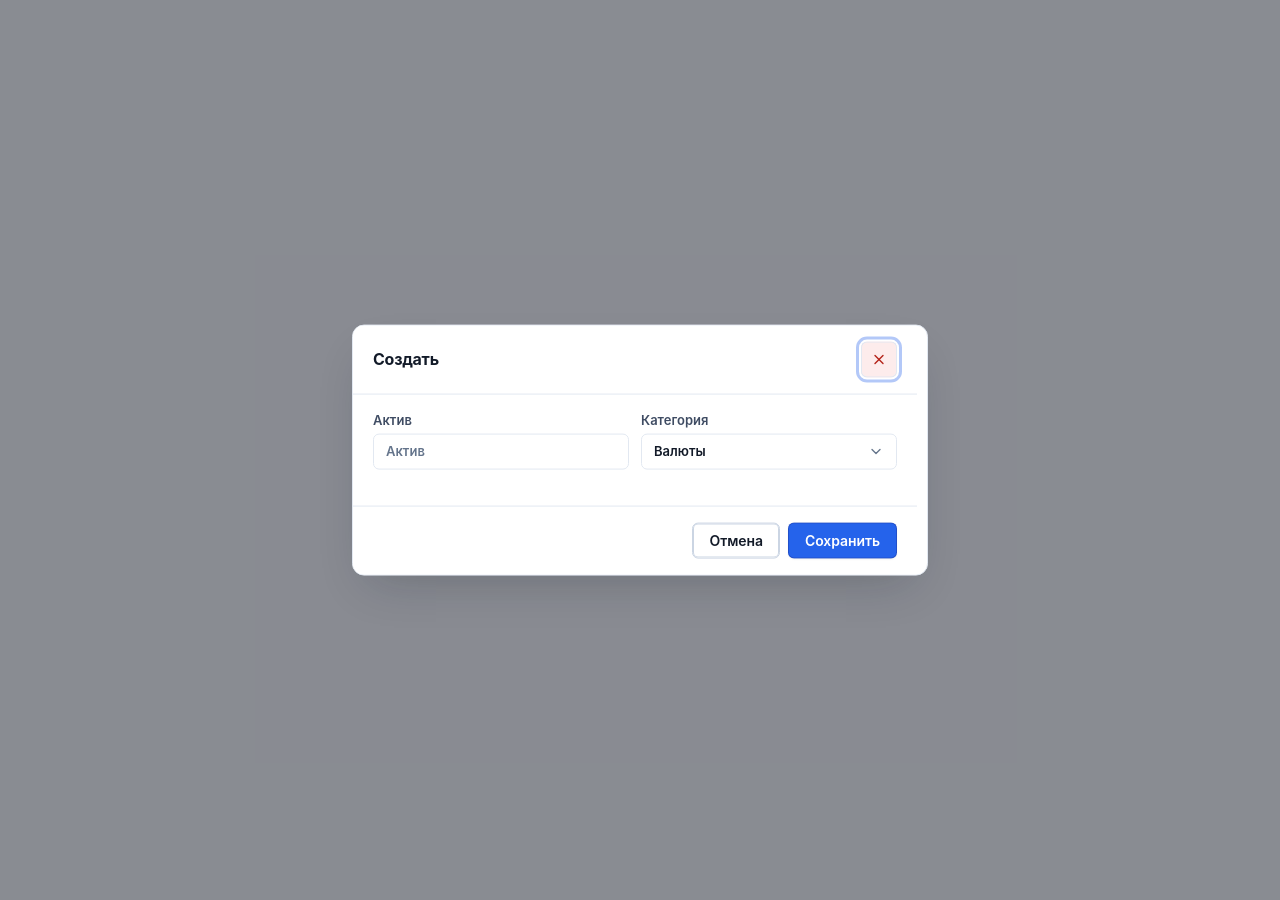
Test case: AccountAssetEditorDialogs cost profiles › shows localized asset category labels in the asset editor
What coordinates should you click on to do the following:
click the dropdown named "Категория"
I would click on:
 (769, 451)
Its box is [641,433,897,469].
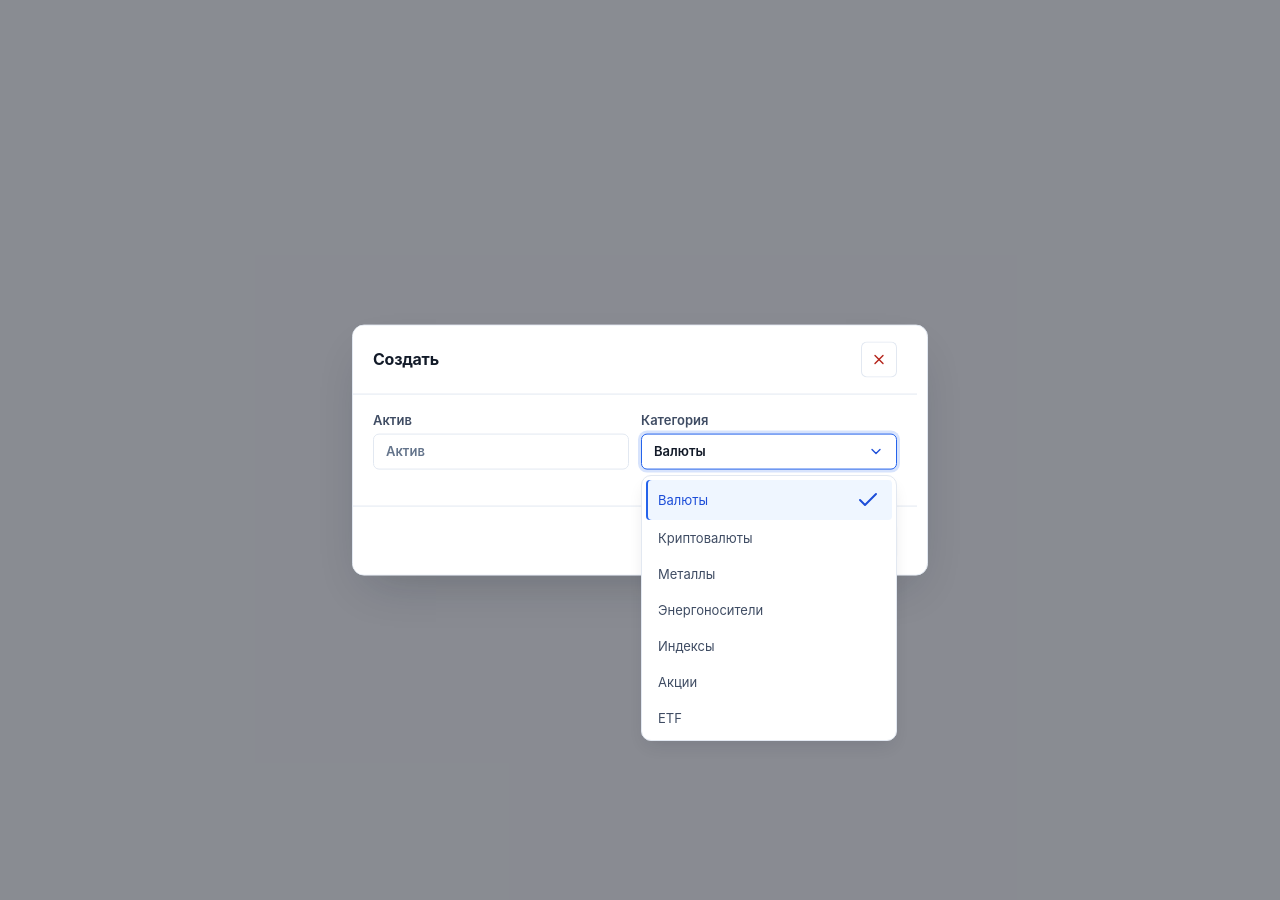
expect the text "Криптовалюты" is shown: met, box [658,529,752,547]
